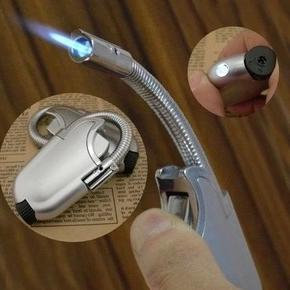fire: (33, 19, 95, 60)
